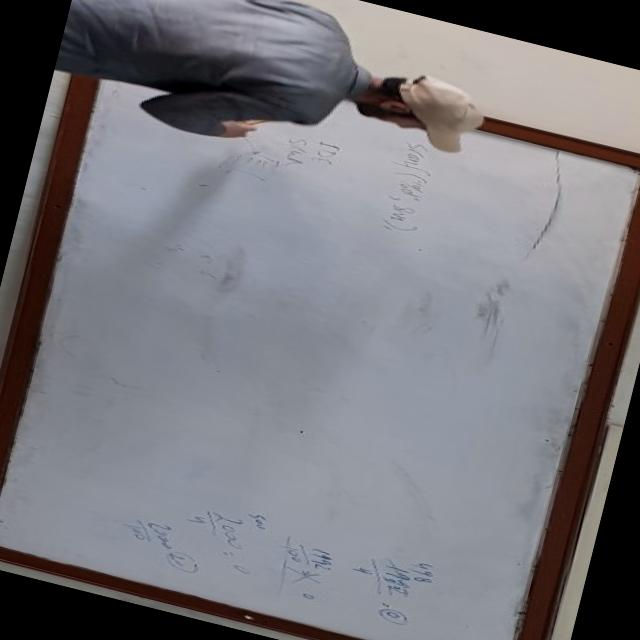Instructor: (52, 0, 514, 178)
White-board: (0, 26, 640, 640)
